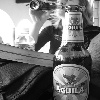beer: (53, 3, 93, 100)
